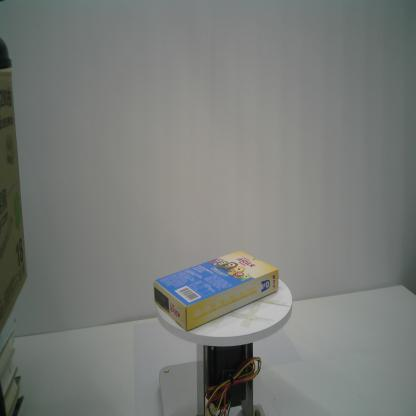Dessert: (153, 244, 281, 334)
